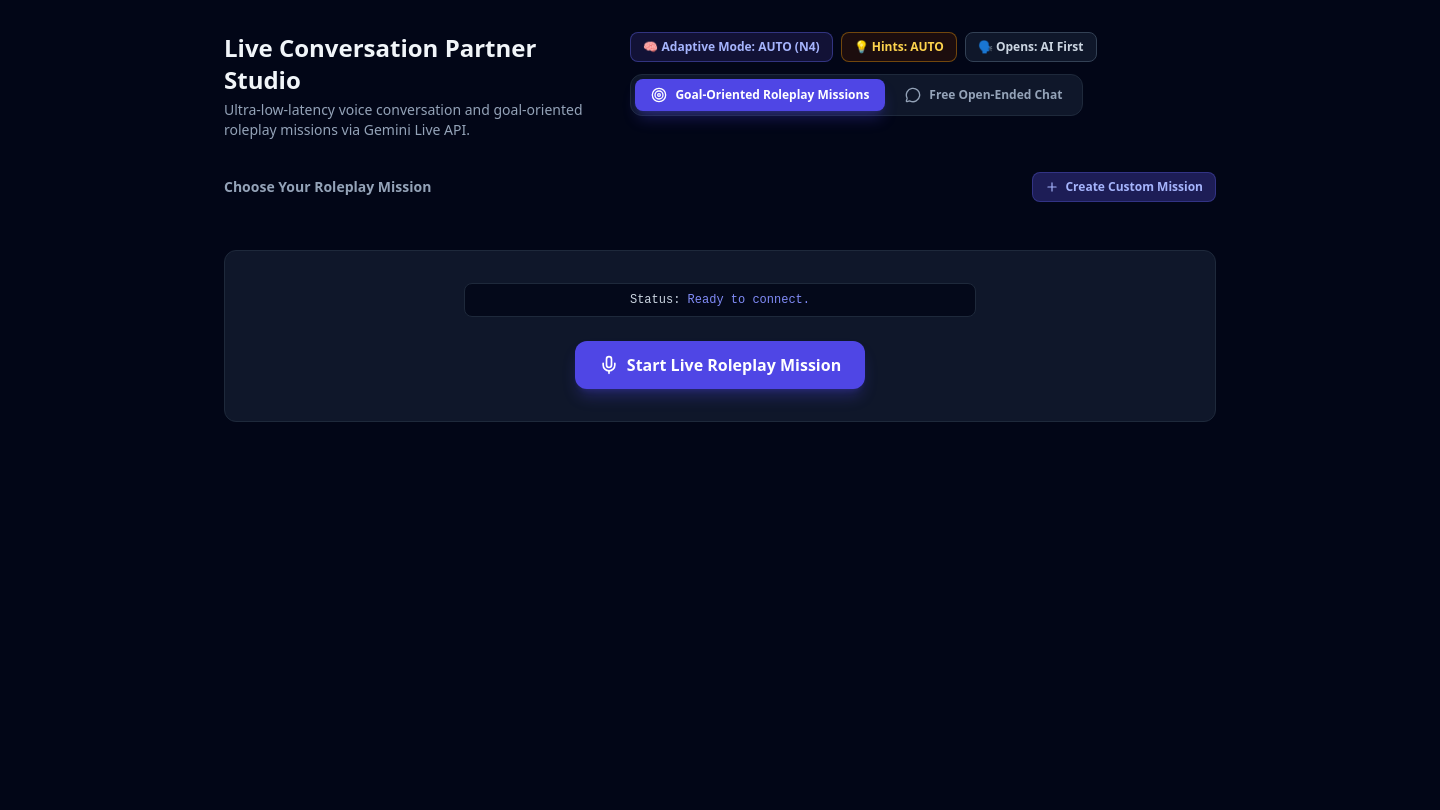
Scenario: LivePartnerView › renders adaptation mode chip in slide-out drawer and disables both header and drawer chips when connected
Click the button "Free Open-Ended Chat": (984, 95) x1=889 y1=79 x2=1078 y2=111
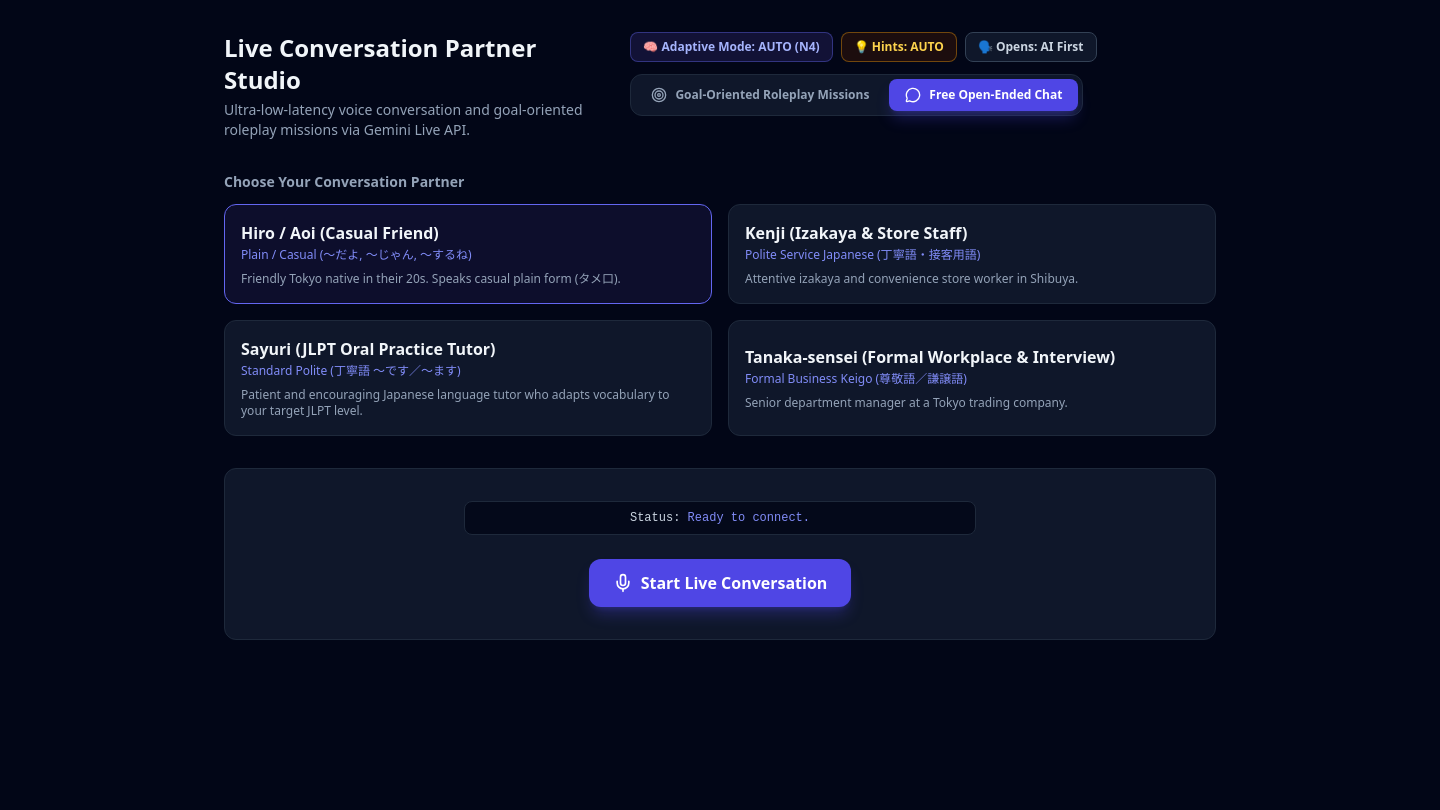
Expected: the button "🧠 Adaptive Mode: AUTO (N4)" is enabled, x1=630 y1=32 x2=833 y2=62
// Start live conversation (connect)
Click the button "Start Live Conversation": (720, 583) x1=589 y1=559 x2=851 y2=607
(page scrolled)
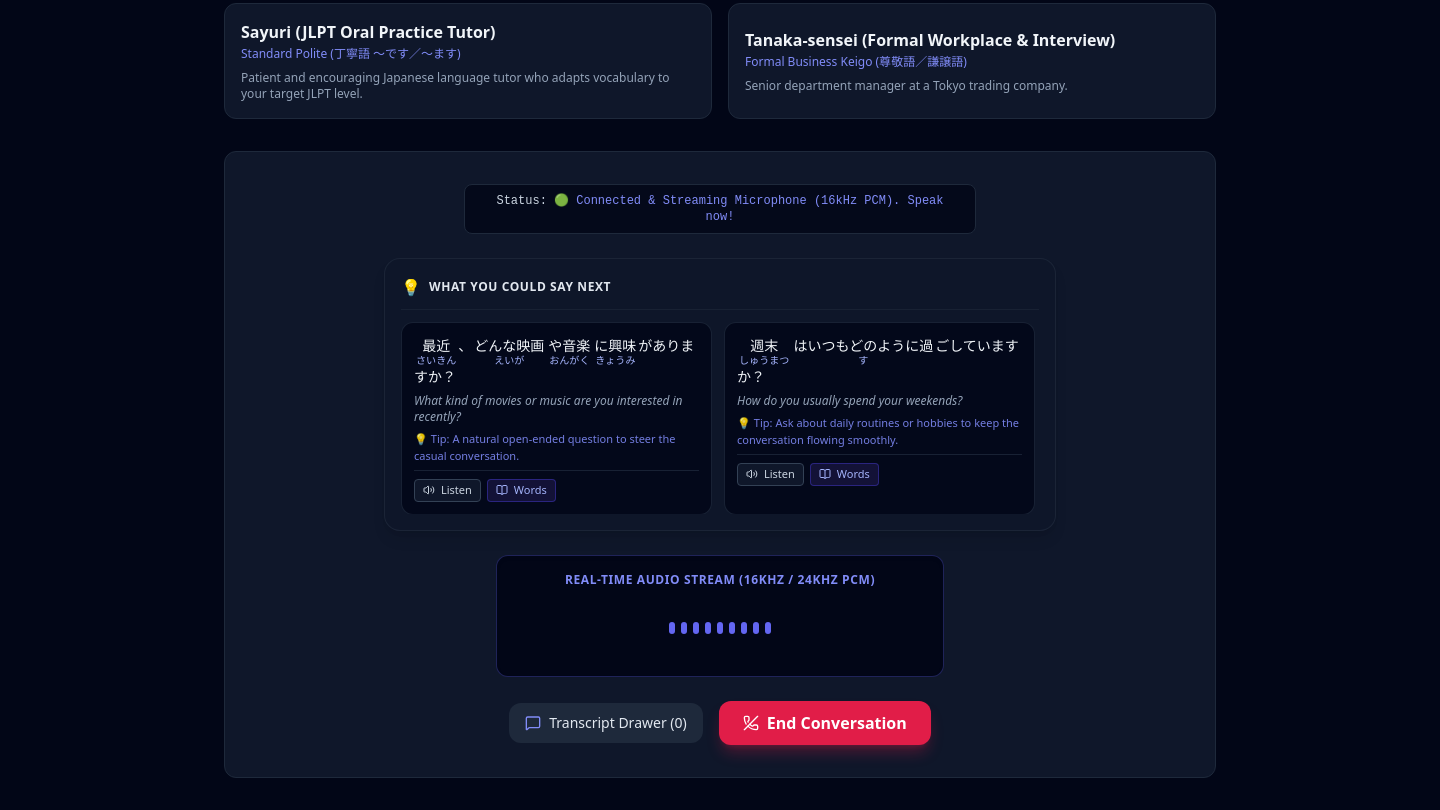
Now the button "End Conversation" is shown, box x1=719 y1=701 x2=931 y2=745
// Open slide-out transcript drawer
Click the button "Transcript Drawer (0)": (606, 723) x1=509 y1=703 x2=703 y2=743
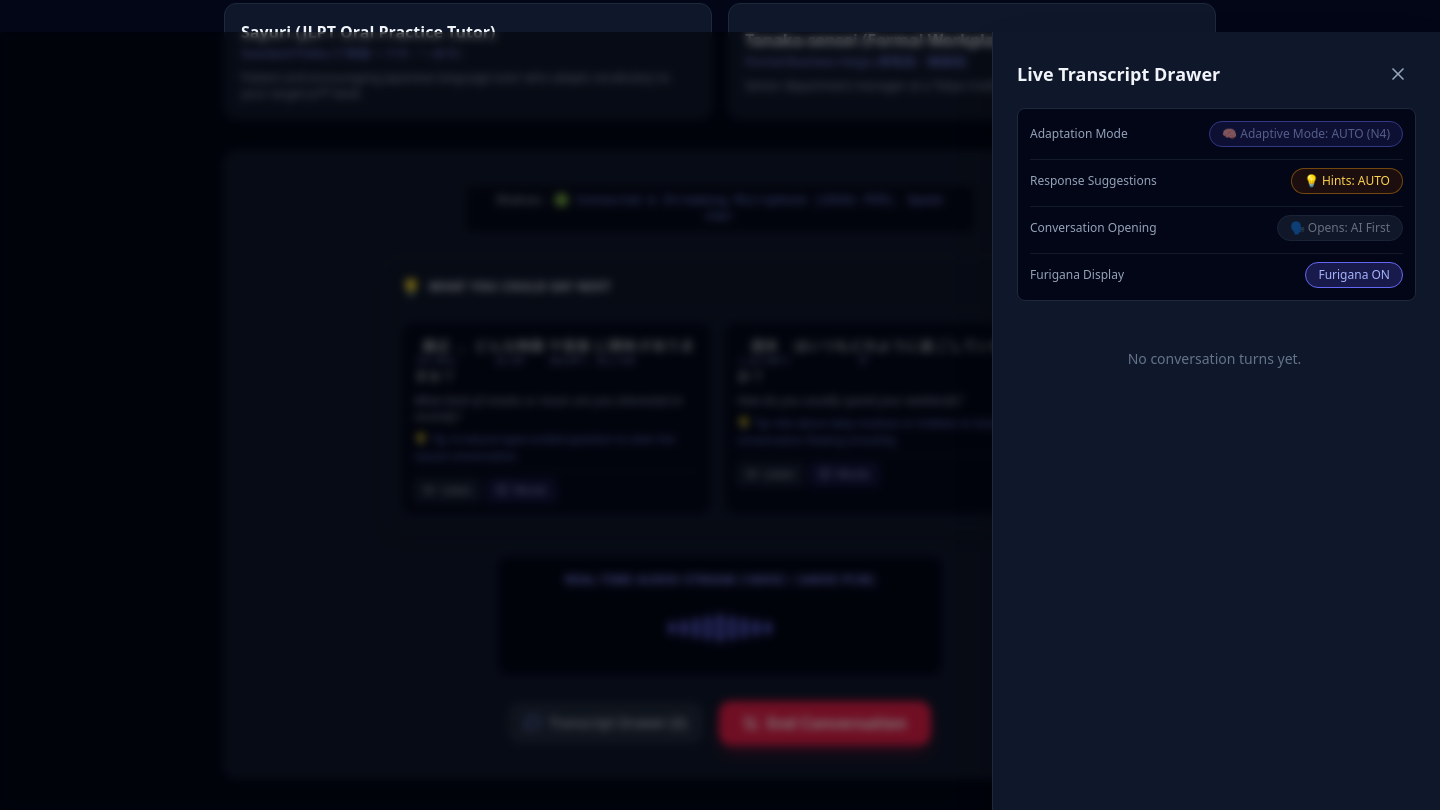
Now the heading "Live Transcript Drawer" is shown, box x1=1017 y1=60 x2=1220 y2=88
Now the button "🧠 Adaptive Mode: AUTO (N4)" is disabled, box x1=1209 y1=121 x2=1403 y2=147
